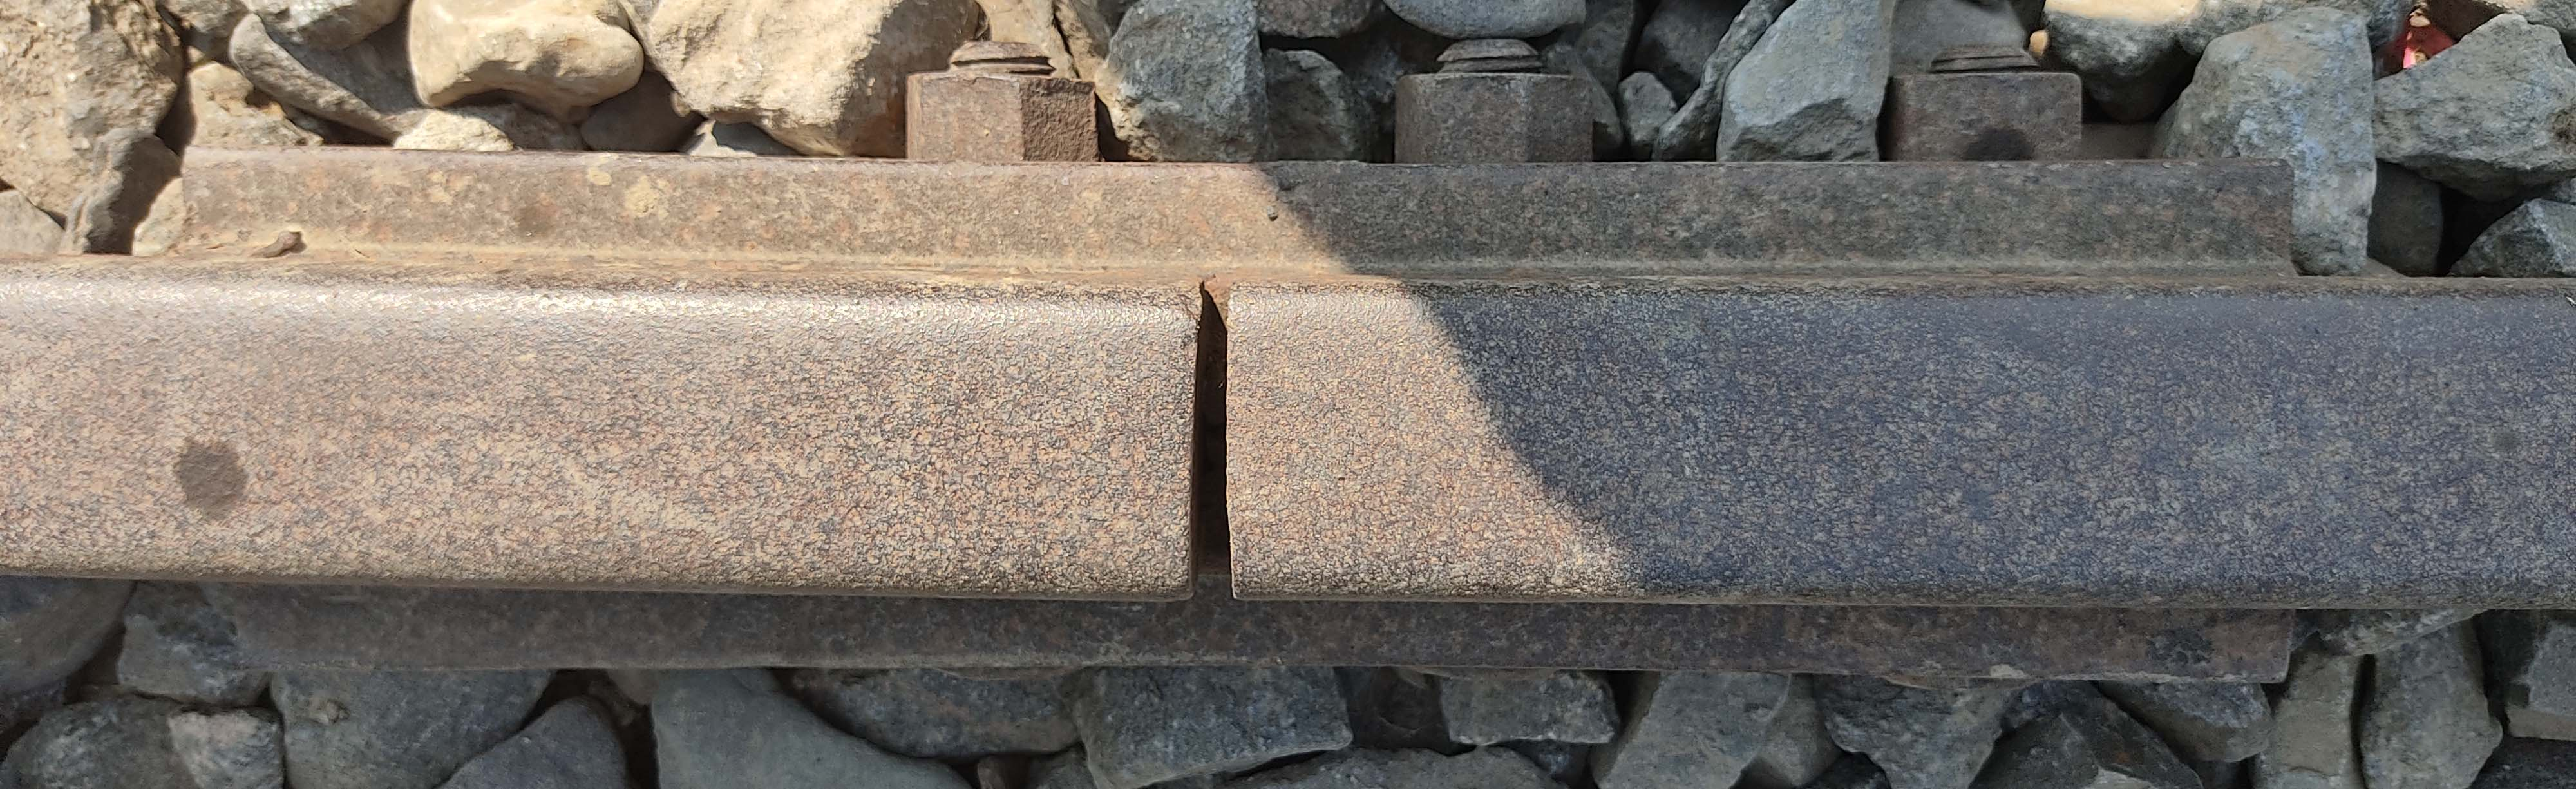error2: (1119, 253, 1296, 651)
